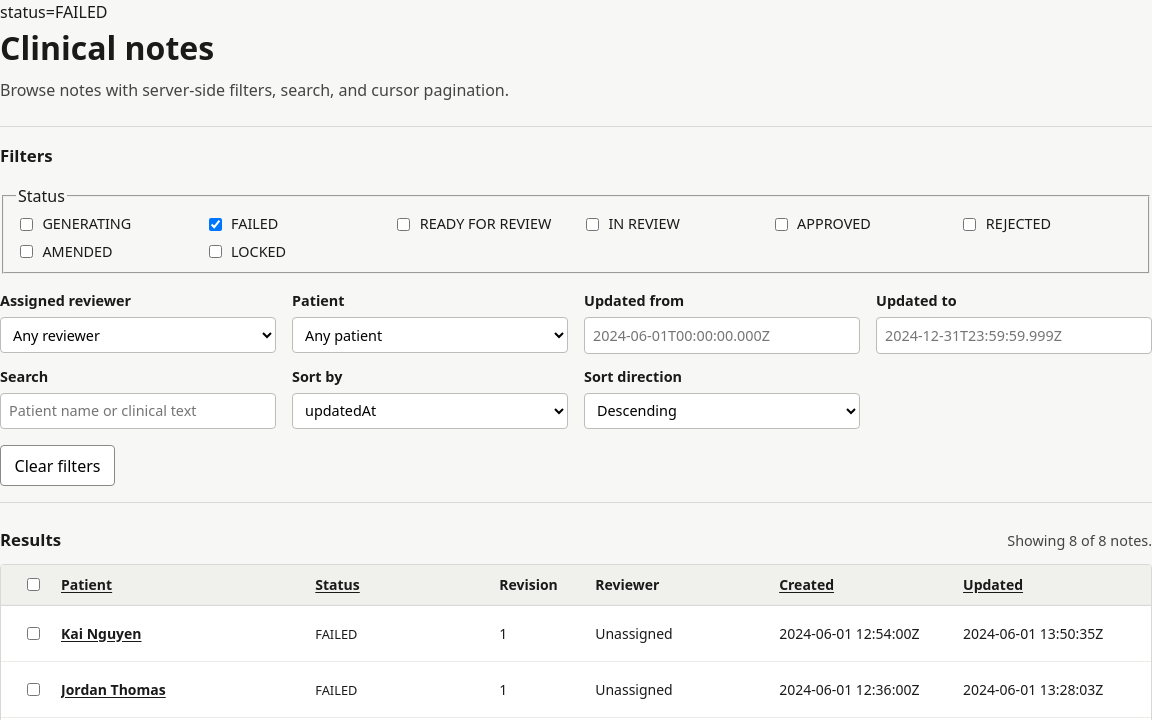
Test: NotesListPage › regeneration role gating › REVIEWER sees disabled regeneration with correct message
Click the checkbox named "Select note for" at (34, 633), box left=27, top=627, right=40, bottom=640
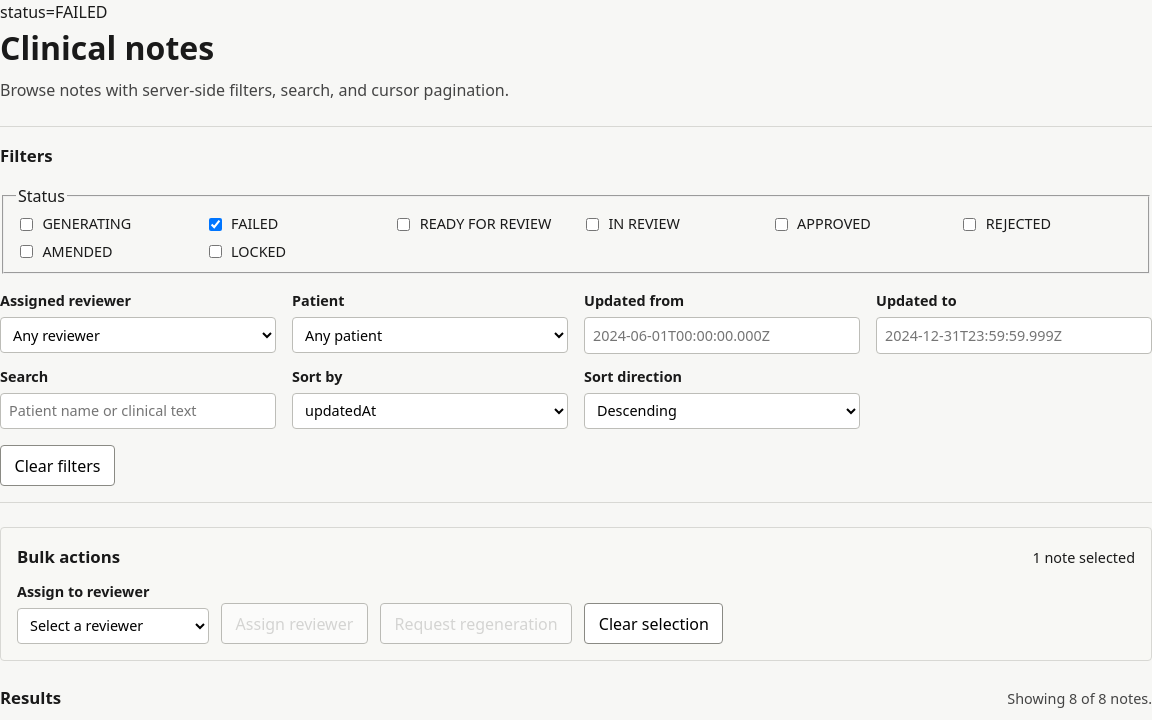
Result: the element with test id "bulk-action-toolbar" is shown at left=0, top=527, right=1151, bottom=661
Result: the button "Request regeneration" is disabled at left=380, top=604, right=572, bottom=644
